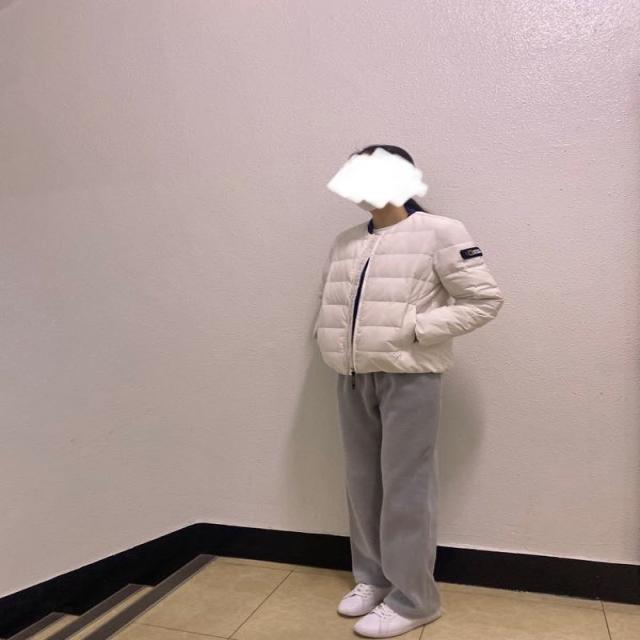padding: (315, 212, 505, 377)
trainingpants: (333, 371, 443, 622)
